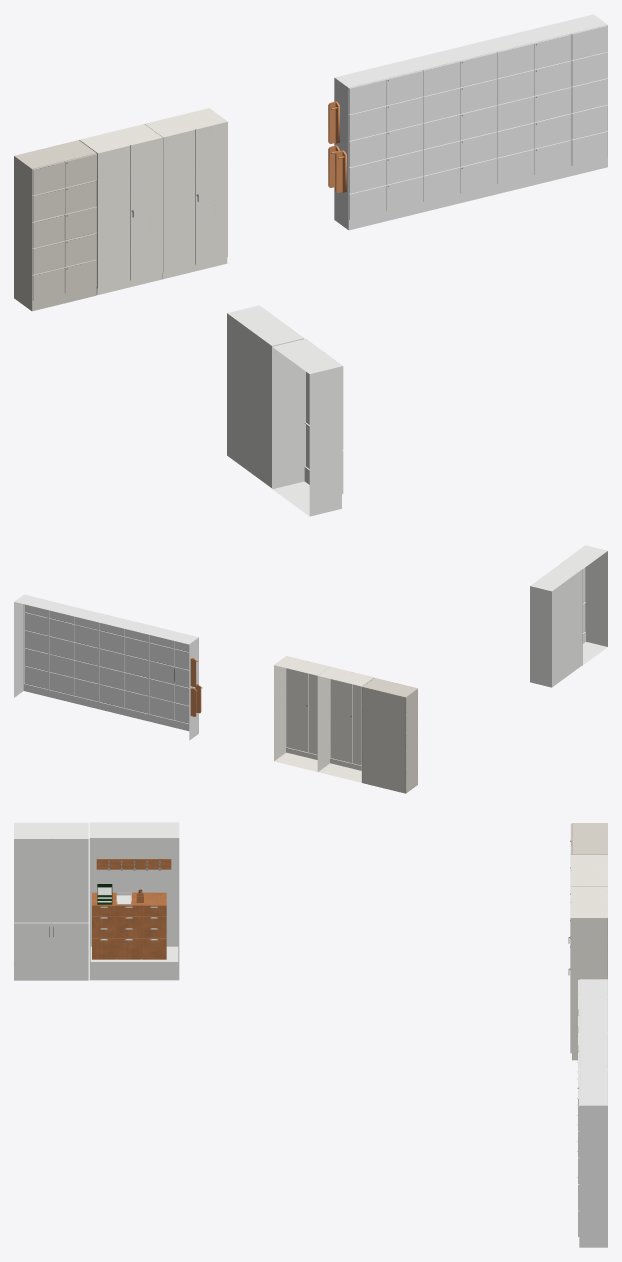
File: Whitecabinets.fbx
3 views of the same model, one above another, from view 1: azimuth 30°, elevation 25°; view 2: azimuth 150°, elevation 25°; view 3: azimuth 270°, elevation 25° (orthographic). The views are drawn at different scales.
Visible parts, largest first — view 1: Cylinder.044, Cube.005, Cube.038, Cylinder.046, Cylinder.001, Cube.003; view 2: Cylinder.044, Cube.005, Cube.003, Cylinder.046, Cylinder.001, Cube.038; view 3: Cube.038, Cube.003, Cylinder.044, Plane.017, Cylinder.001, Cylinder.046, Cube.005, Cube.020.
Part boxes in pixels (x1,y1,x2,y2): Cylinder.044: (334, 14, 607, 230); Cube.005: (14, 140, 96, 311); Cube.038: (272, 338, 343, 516); Cylinder.046: (79, 124, 162, 295); Cylinder.001: (145, 108, 227, 279); Cube.003: (227, 305, 304, 487); Cylinder.044: (14, 594, 198, 740); Cube.005: (362, 678, 417, 793); Cube.003: (530, 564, 582, 687); Cylinder.046: (318, 666, 374, 782); Cylinder.001: (274, 656, 329, 771); Cube.038: (560, 545, 607, 665); Cube.038: (14, 822, 88, 980); Cube.003: (89, 822, 179, 980); Cylinder.044: (577, 979, 607, 1247); Plane.017: (92, 892, 166, 959); Cylinder.001: (568, 886, 607, 1060); Cylinder.046: (568, 855, 607, 943); Cube.005: (570, 823, 607, 947); Cube.020: (96, 859, 171, 870).
Bounding box in the file's own units: 7.95 × 8.97 × 2.11.
11 materials, 11 textured.
